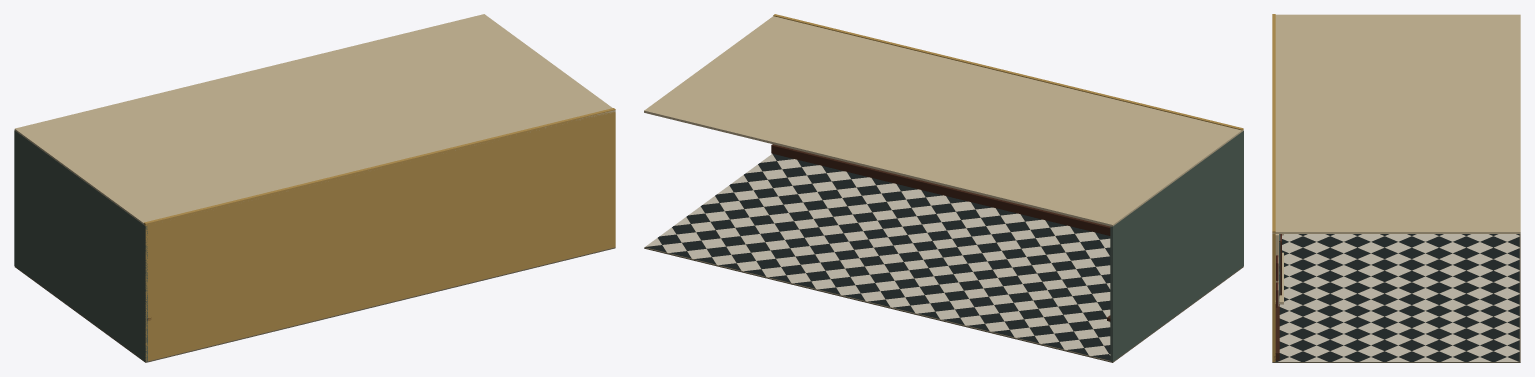
File: room.glb
The picture shows the model from 3 angles, left to right: view 1: azimuth 30°, elevation 25°; view 2: azimuth 150°, elevation 25°; view 3: azimuth 270°, elevation 25°; orthographic projection. The views are drawn at different scales.
Parts seen in each view (by area): view 1: 실내 조명 베이크용 room; view 2: 실내 조명 베이크용 room; view 3: 실내 조명 베이크용 room.
Part boxes in pixels (x1,y1,x2,y2): 실내 조명 베이크용 room: [14, 14, 615, 362]; 실내 조명 베이크용 room: [644, 14, 1243, 362]; 실내 조명 베이크용 room: [1272, 14, 1520, 362].
Size of the model in its own units: 12.28 by 3.48 by 5.94.
